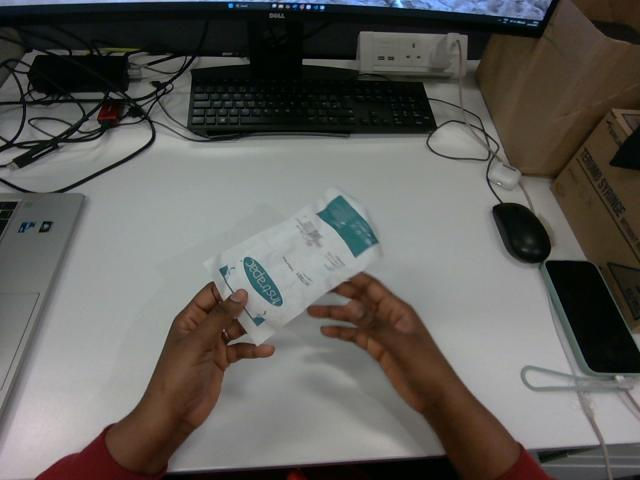gallipot: (204, 188, 381, 344)
